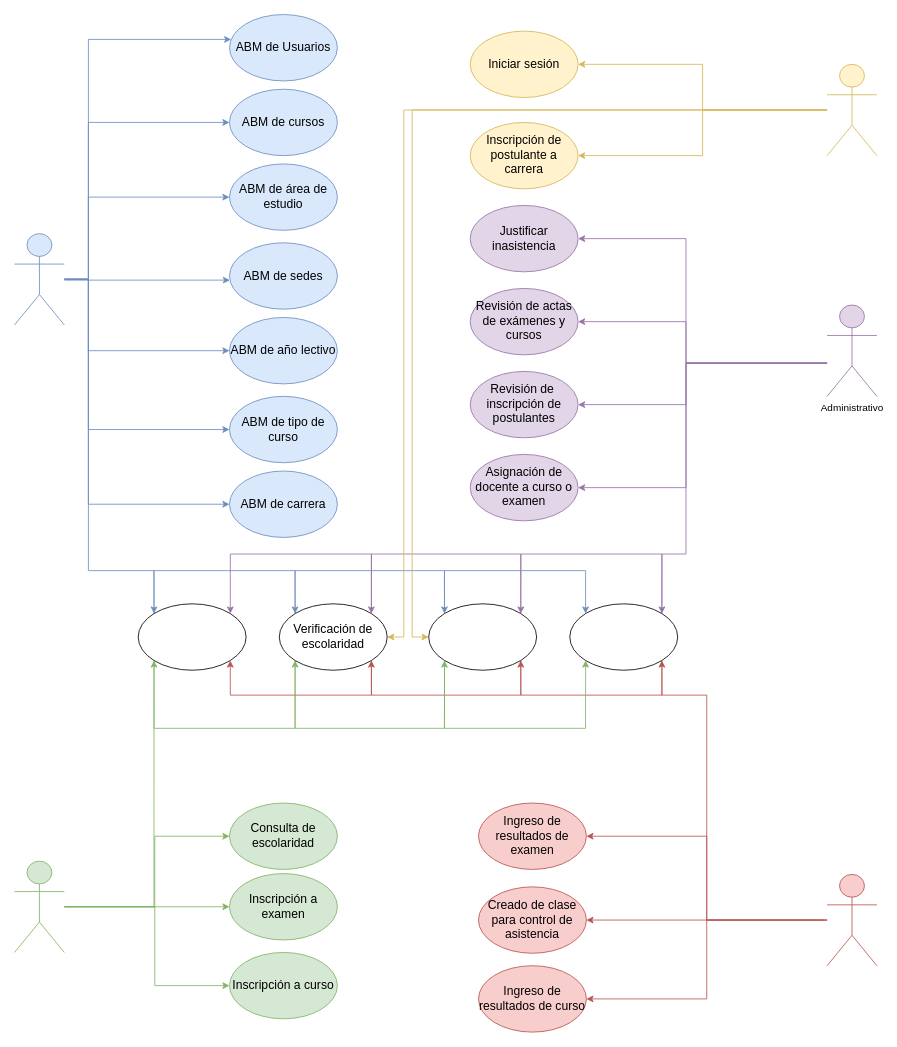
Some shapes in this 897 by 1047 pixel diagram are drawn without their labels. The shapes that lost their labels are listed below. From the top down, each one's box as (x1, y1, x2, y2) in pixels, then its label:
(826, 63, 877, 156): Invitado
(14, 233, 64, 325): Admin
(137, 603, 246, 670): Cerrar sesión
(428, 603, 537, 670): Visualización del grafo de previaturas
(569, 603, 678, 670): Cambiar contraseña
(14, 860, 64, 952): Estudiante
(826, 874, 877, 966): Docente
